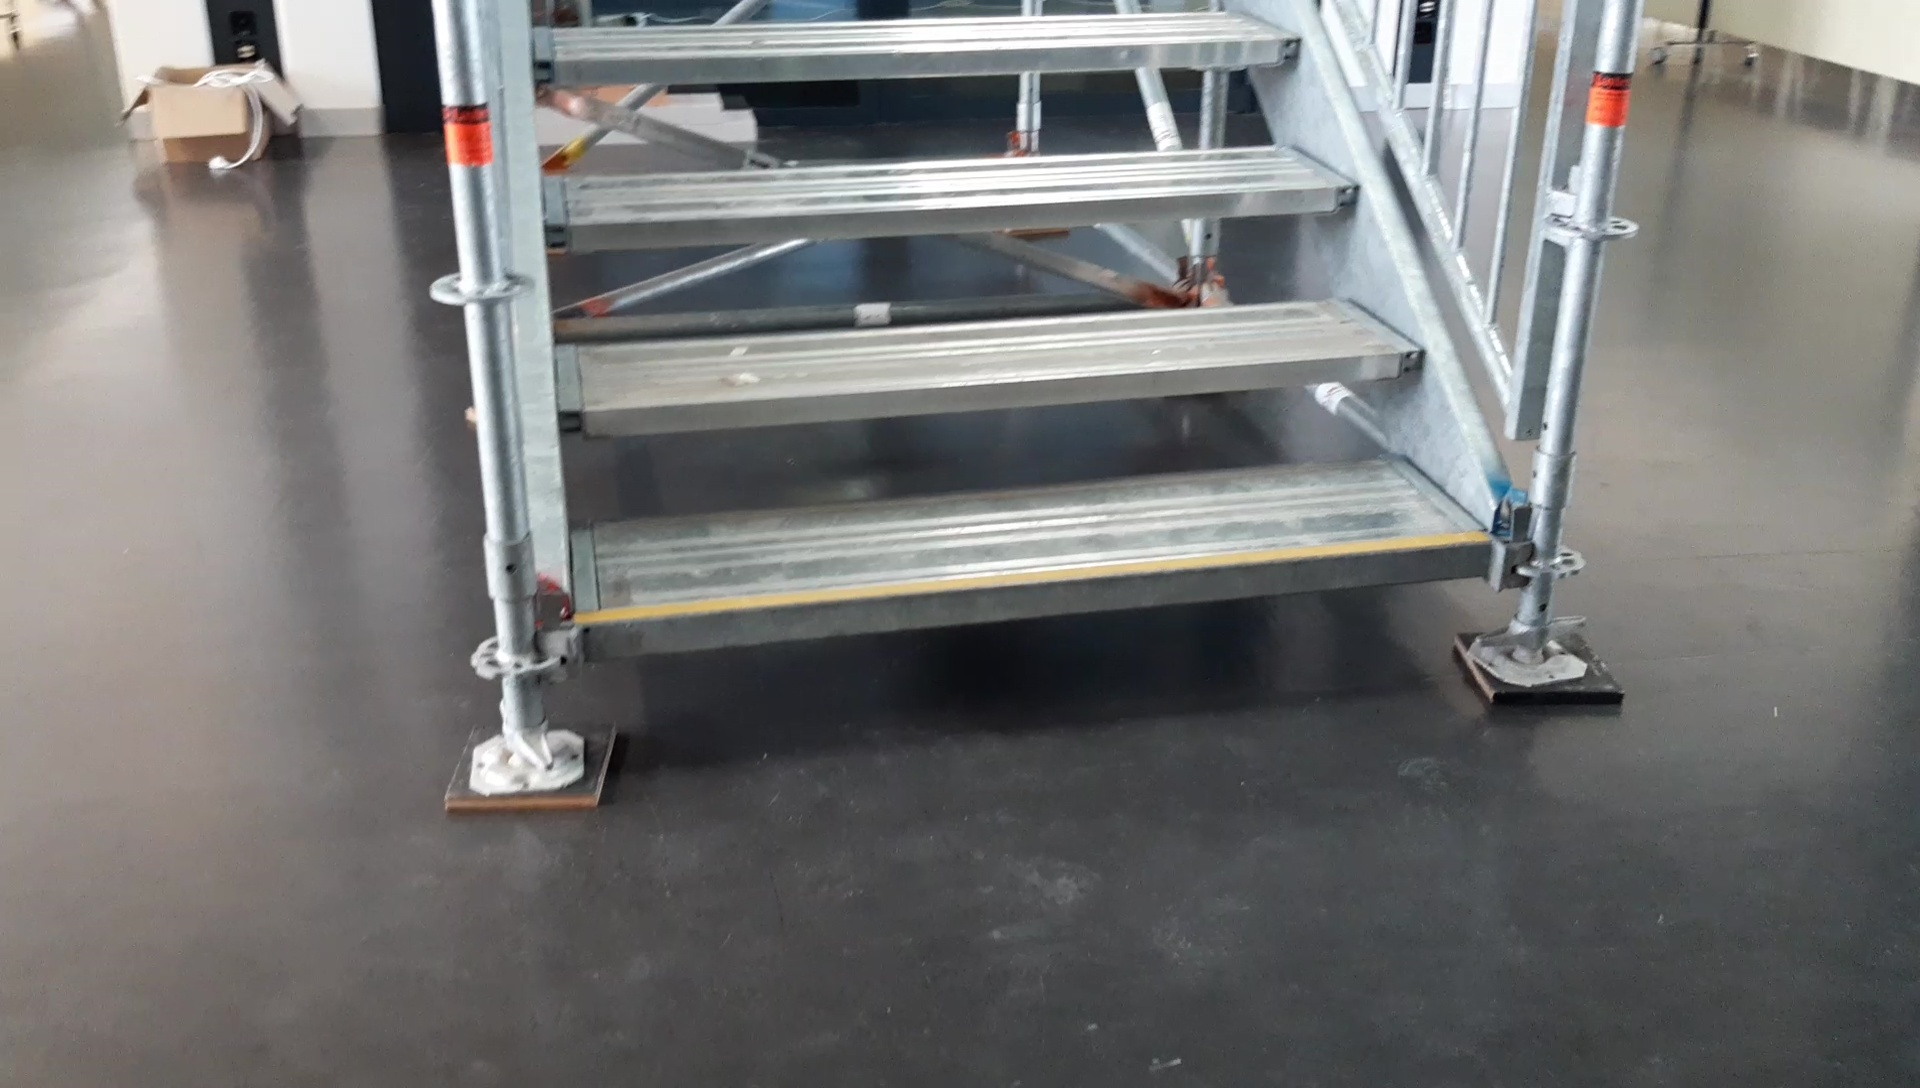edge: (589, 539, 1498, 653), (555, 349, 1428, 437), (545, 182, 1362, 248), (533, 33, 1302, 80)
stairs: (433, 3, 1625, 810)
